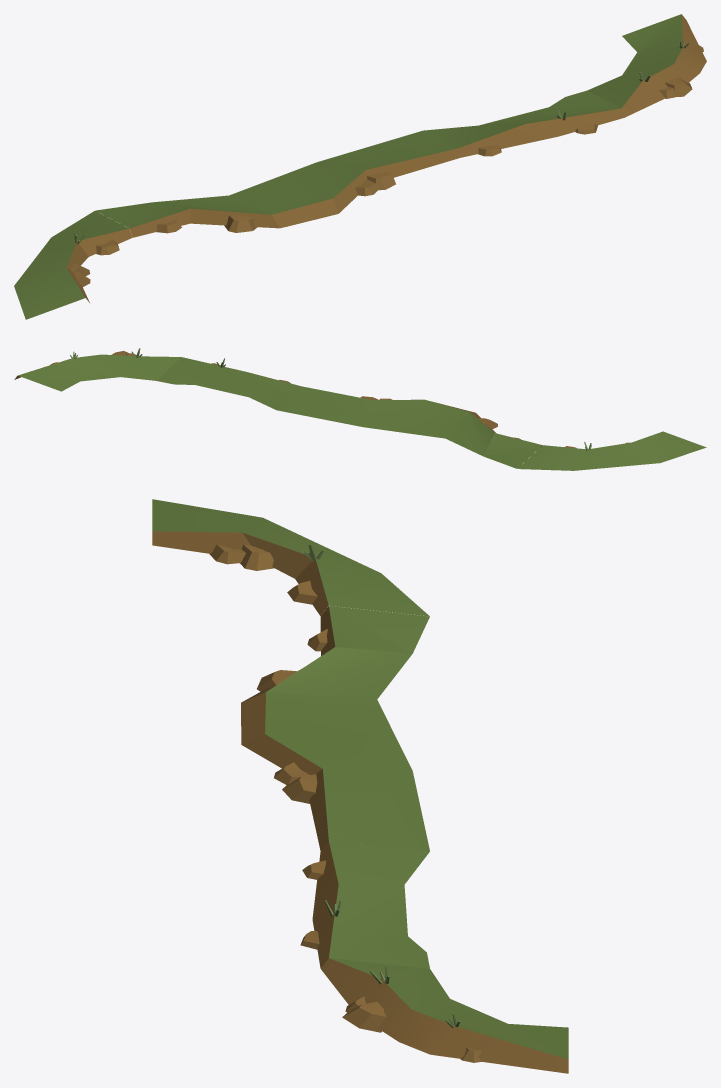
Rendered from BankRight.fbx.
3 renders of one model, top to bottom at view 1: azimuth 30°, elevation 25°; view 2: azimuth 150°, elevation 25°; view 3: azimuth 270°, elevation 25°, orthographic. The views are drawn at different scales.
Visible parts, largest first — view 1: BankRight; view 2: BankRight; view 3: BankRight.
Part boxes in pixels (box(x1,y1,x2,y2)): BankRight: box(14, 14, 706, 319); BankRight: box(14, 348, 706, 470); BankRight: box(152, 499, 568, 1073).
Bounding box in the file's own units: 97.88 × 2.59 × 29.98.
